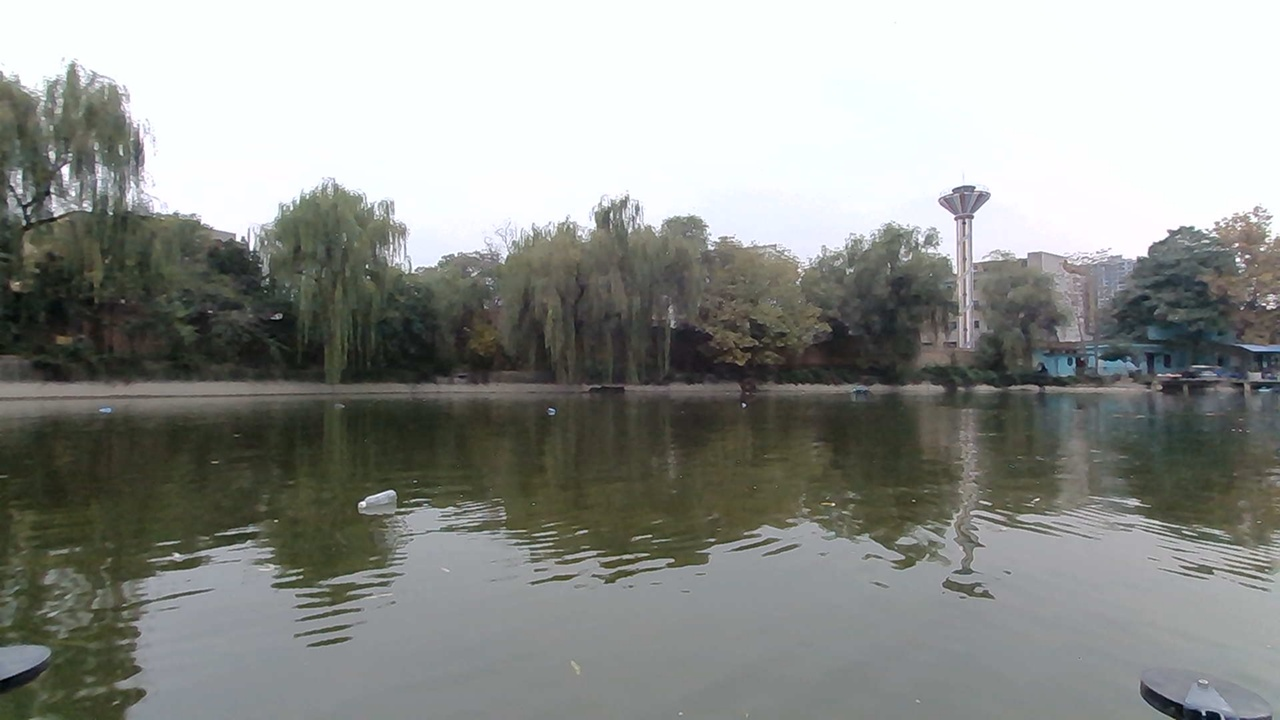bottle: (353, 488, 412, 517), (541, 402, 572, 420)
